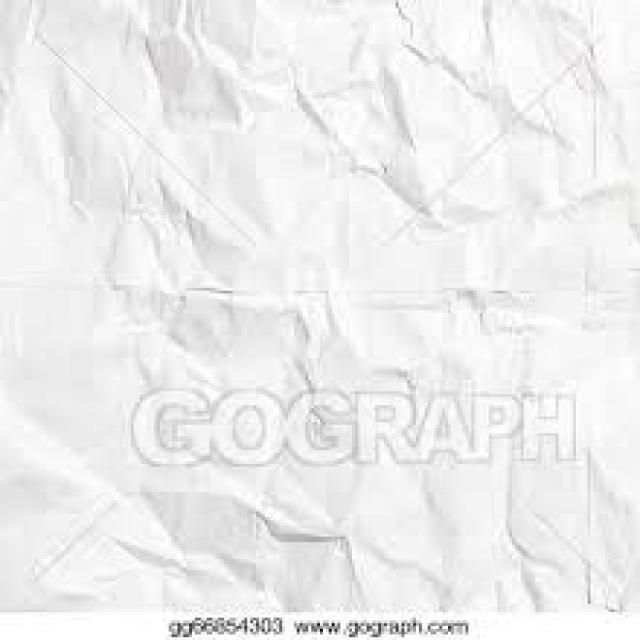paper: (0, 0, 637, 606)
